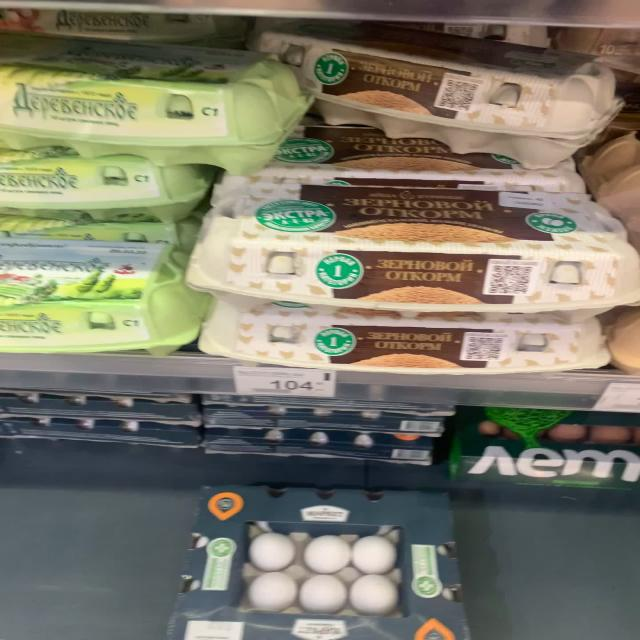egg box: (182, 184, 636, 309), (252, 20, 624, 167), (172, 468, 465, 636), (2, 34, 300, 164), (187, 291, 608, 370), (240, 107, 592, 189), (0, 232, 190, 352), (5, 126, 207, 220), (450, 405, 638, 496)
